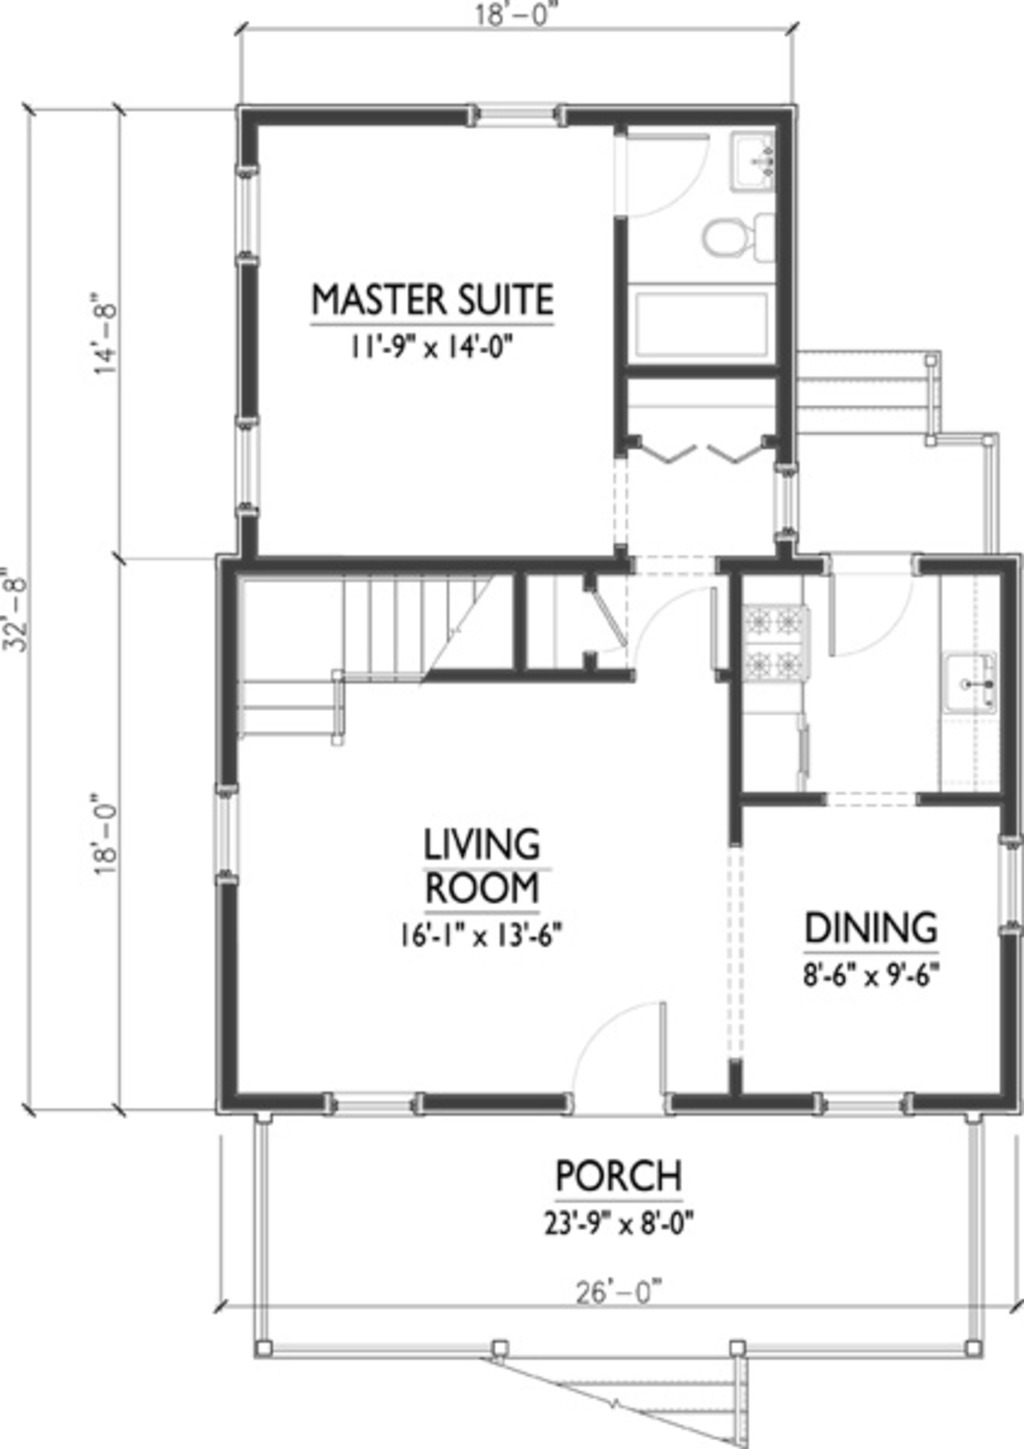door: (564, 997, 672, 1109), (828, 555, 915, 660), (617, 127, 715, 220), (632, 590, 724, 677)
large_sink: (695, 204, 775, 273)
small_sink: (728, 132, 772, 197)
stairs: (226, 563, 501, 750), (788, 343, 991, 552)
tub: (623, 277, 780, 367)
windows: (203, 778, 248, 886), (226, 161, 269, 269), (803, 1089, 928, 1126), (231, 407, 269, 517), (991, 832, 1024, 924), (320, 1089, 418, 1120), (460, 100, 563, 129)
